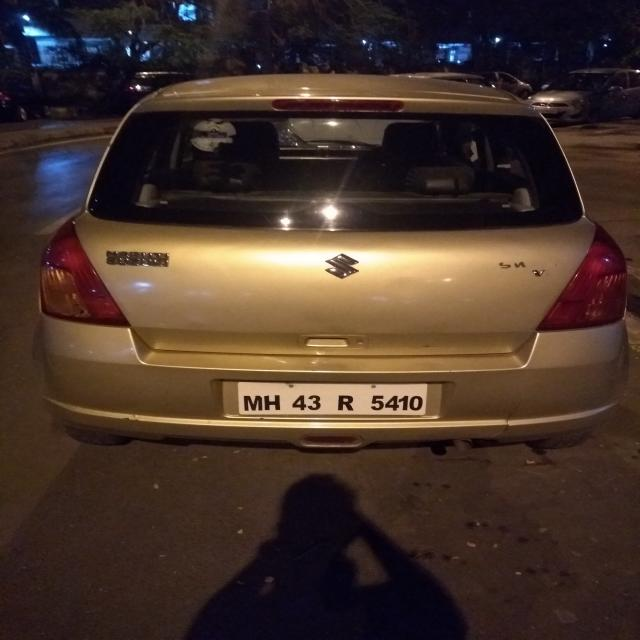Number-Plate: (236, 377, 426, 413)
